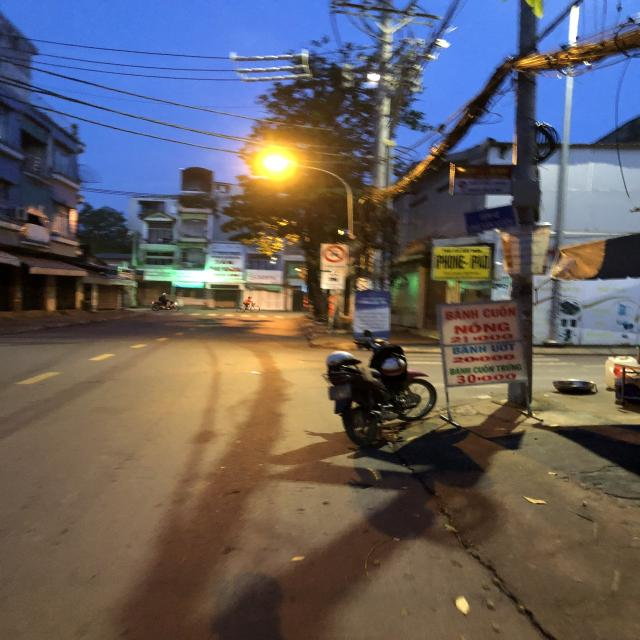Bien bao cam xe oto: (323, 245, 348, 263)
